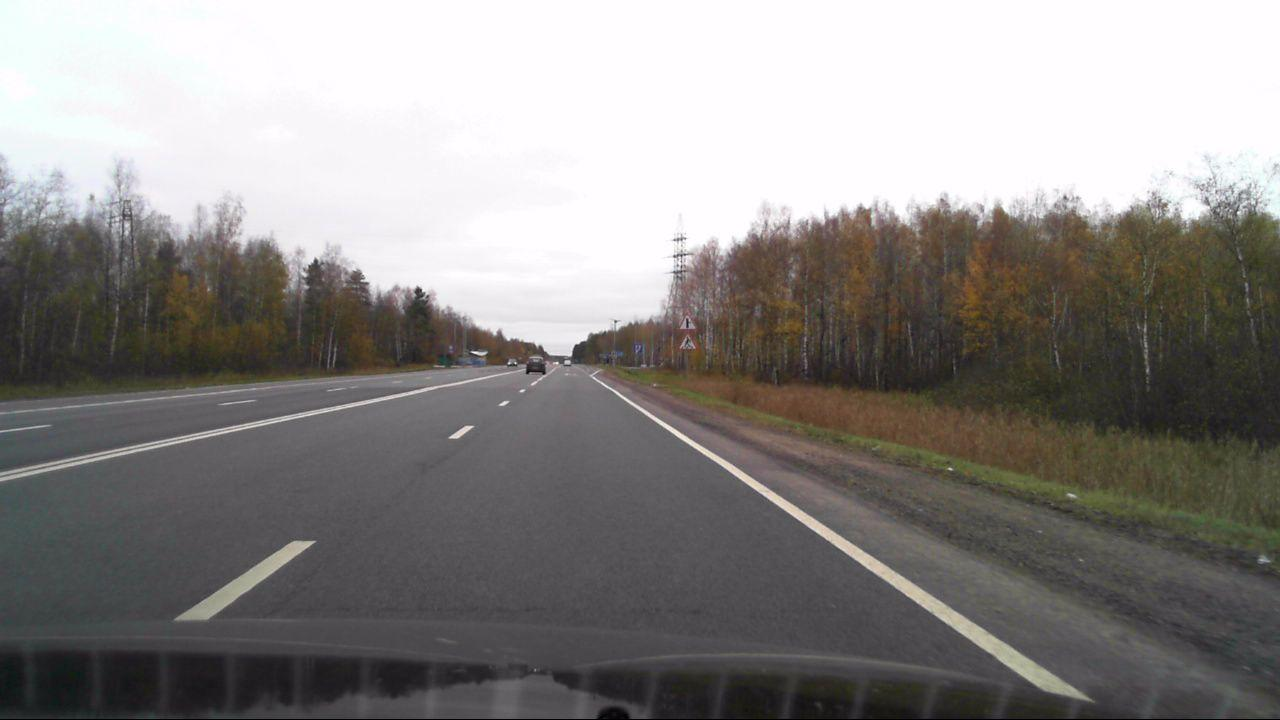road_sign: (677, 332, 699, 351), (678, 312, 698, 330)
